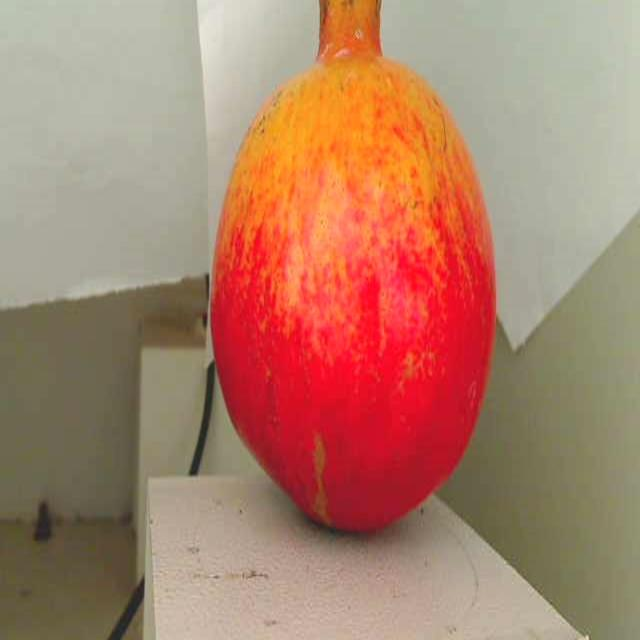pomegranate: (196, 0, 499, 545)
